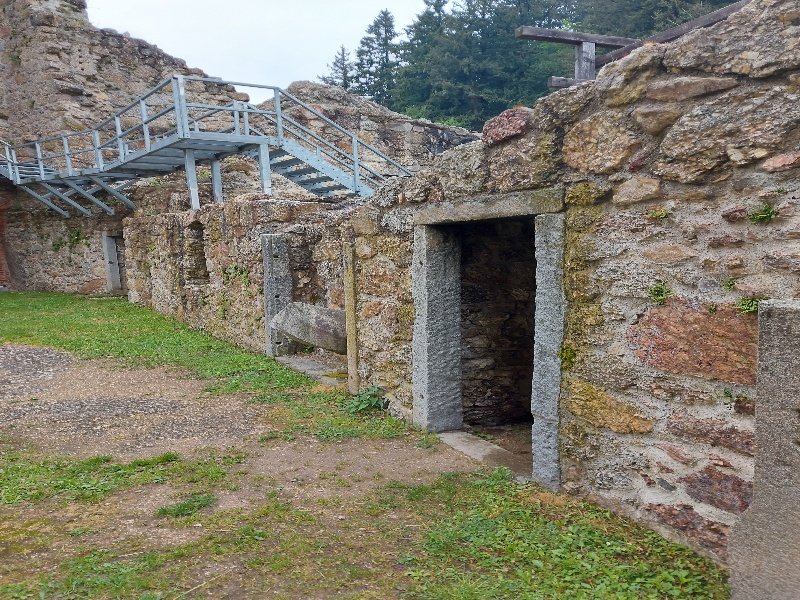door1: (95, 222, 130, 297)
door2: (390, 194, 581, 504)
